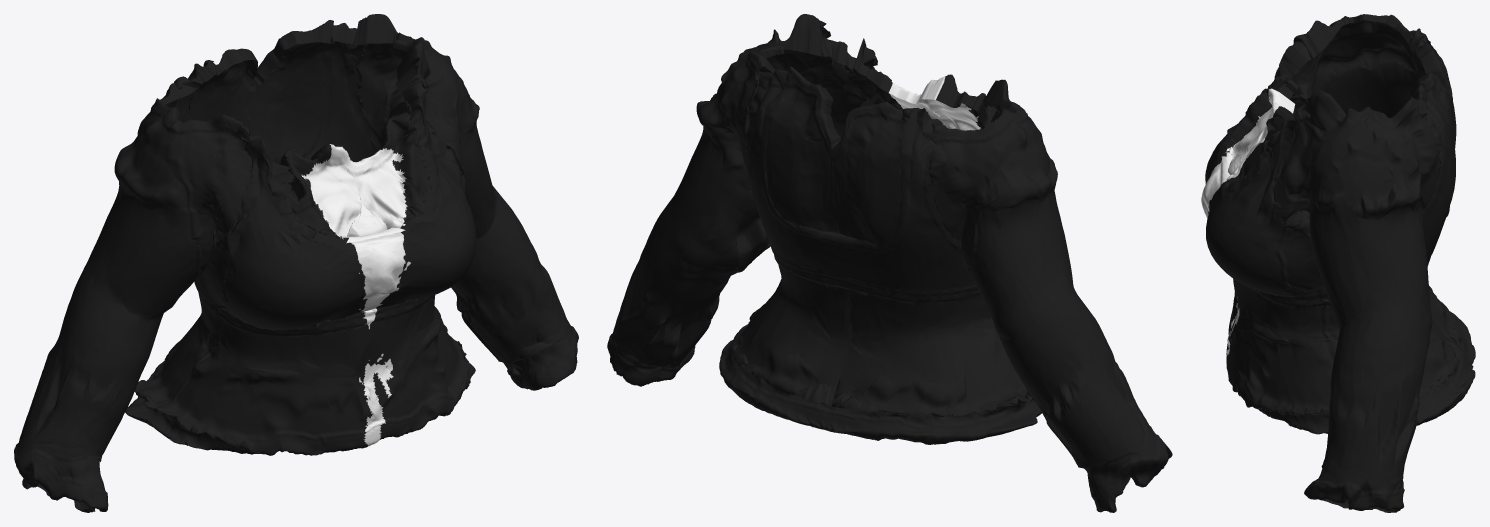
Rendered from top_f_blazer.glb.
3 views of the same model, side by side, from view 1: azimuth 30°, elevation 25°; view 2: azimuth 150°, elevation 25°; view 3: azimuth 270°, elevation 25° (orthographic). The views are drawn at different scales.
Parts seen in each view (by area): view 1: top_f_blazer; view 2: top_f_blazer; view 3: top_f_blazer.
Boxes of the visible parts, x1,y1,x2,y2 form: top_f_blazer: [14, 14, 578, 512]; top_f_blazer: [607, 14, 1172, 512]; top_f_blazer: [1201, 14, 1475, 512].
Bounding box in the file's own units: 0.8264 × 0.5658 × 0.3749.
1 material, 1 textured.
